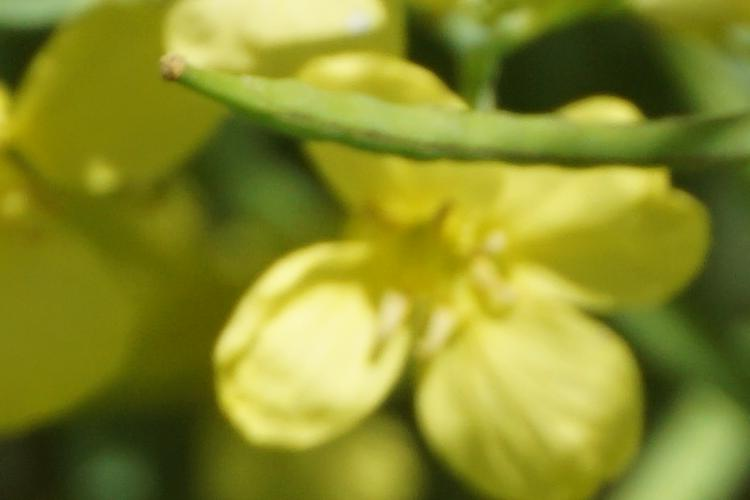pod: (146, 55, 724, 177)
yellow: (241, 60, 688, 468)
